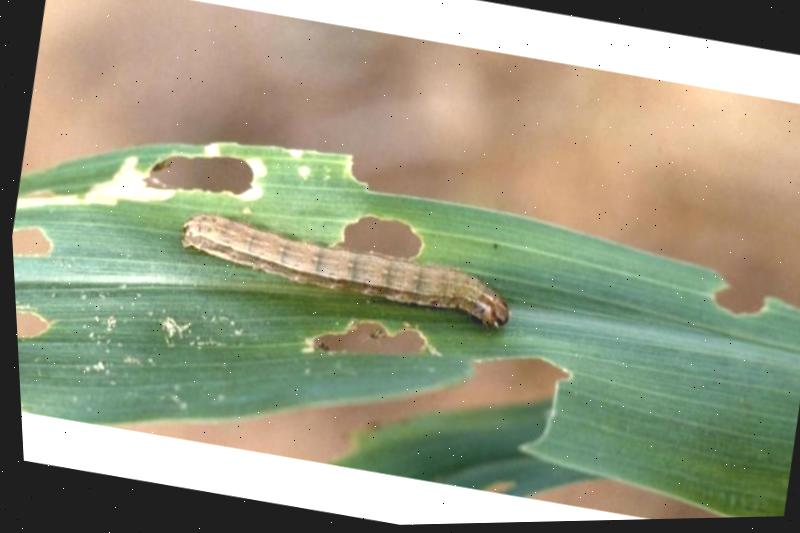fall-armyworm: (177, 217, 506, 333)
